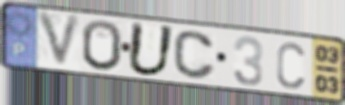3: (232, 35, 265, 87)
C: (171, 29, 218, 82), (275, 39, 307, 91)
O: (80, 18, 124, 73)
U: (125, 20, 178, 78)
V: (35, 9, 85, 71)
